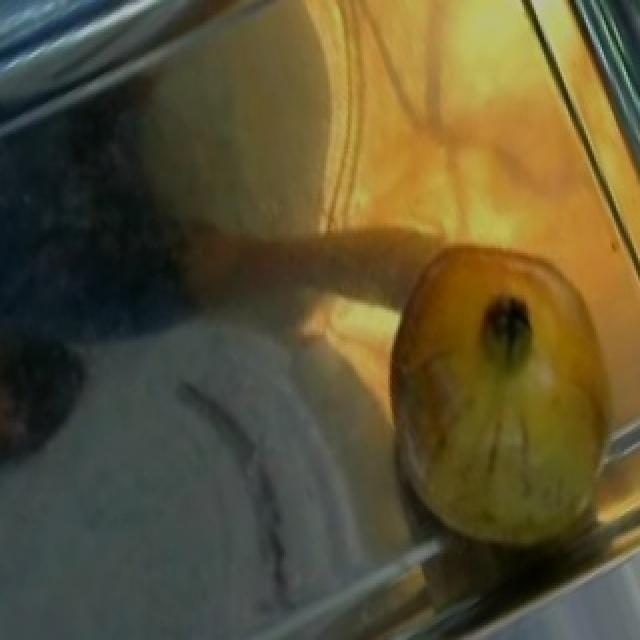fruit: (364, 213, 620, 444)
